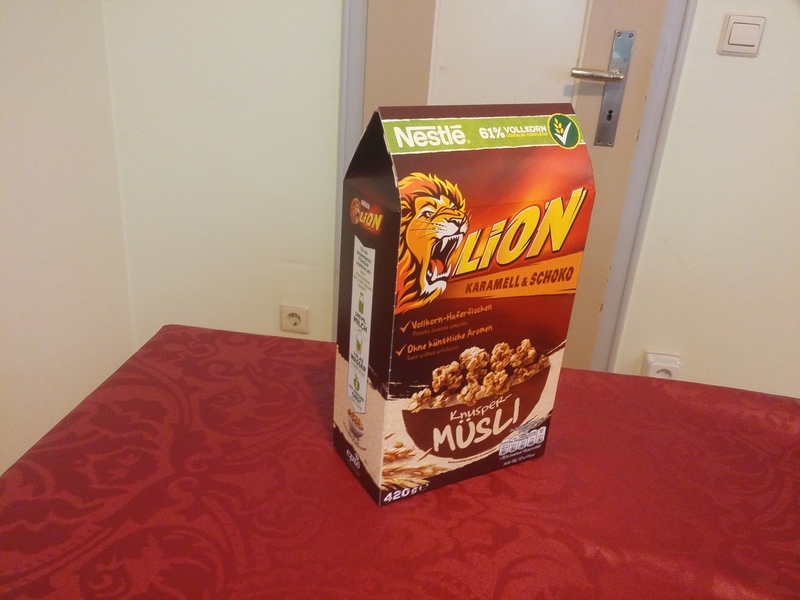cereals: (331, 100, 597, 509)
